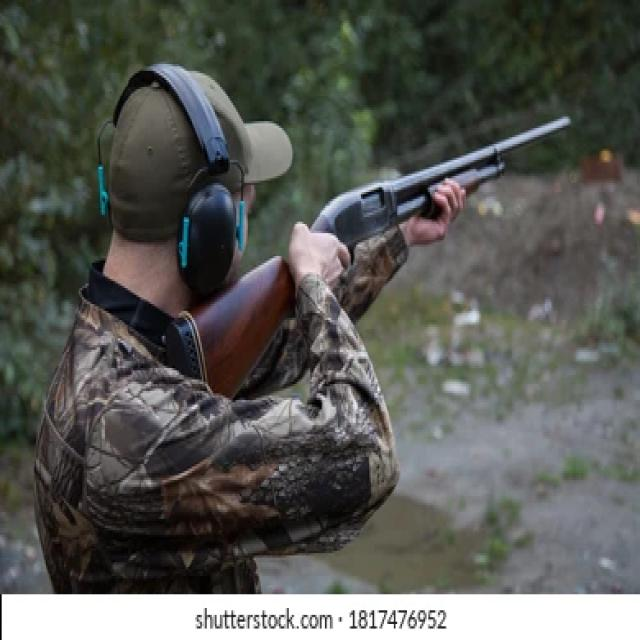soldier: (61, 36, 581, 596)
